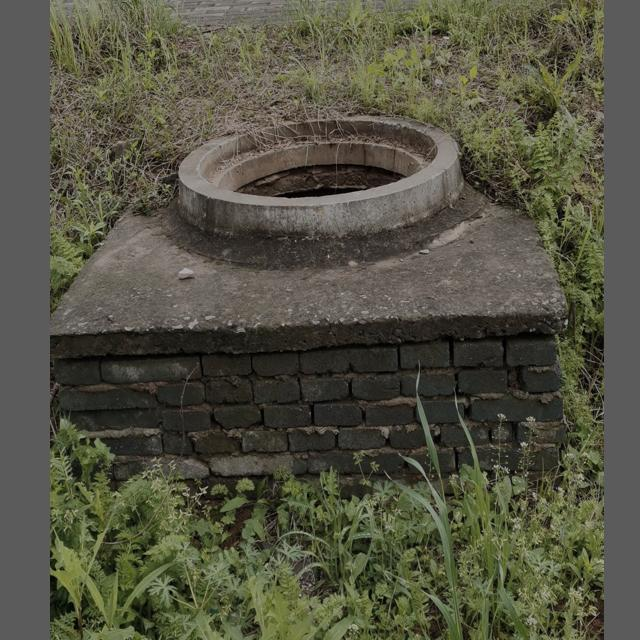lose: (182, 105, 462, 236)
